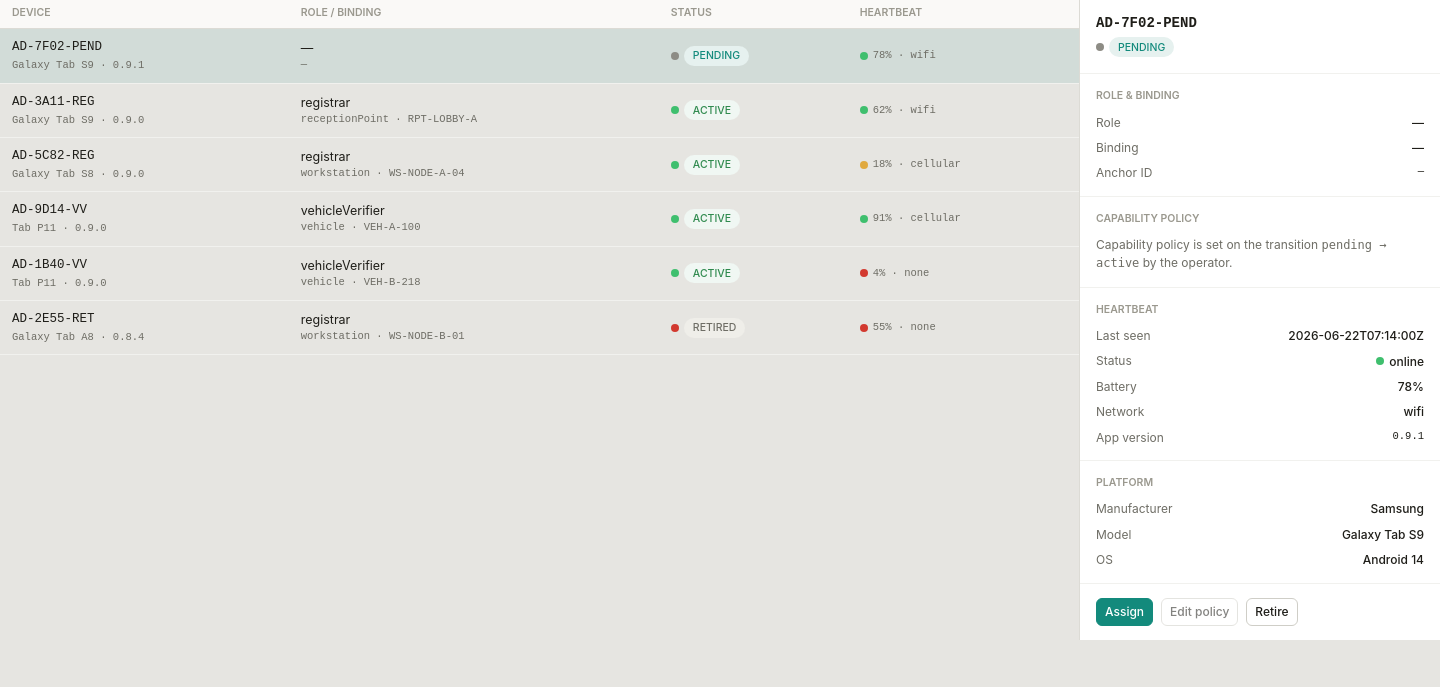
Test: AndroidDevicesScreen integration: assign + retire flows mutate snapshot › Retire on active device transitions to retired + locks affordances
Expected: the button "AD-7F02-PEND Galaxy Tab S9 · 0.9.1" is shown, [12,38,277,74]
Click the button "AD-3A11-REG Galaxy Tab S9 · 0.9.0" at (53, 102), box [12,93,277,128]
(page scrolled)
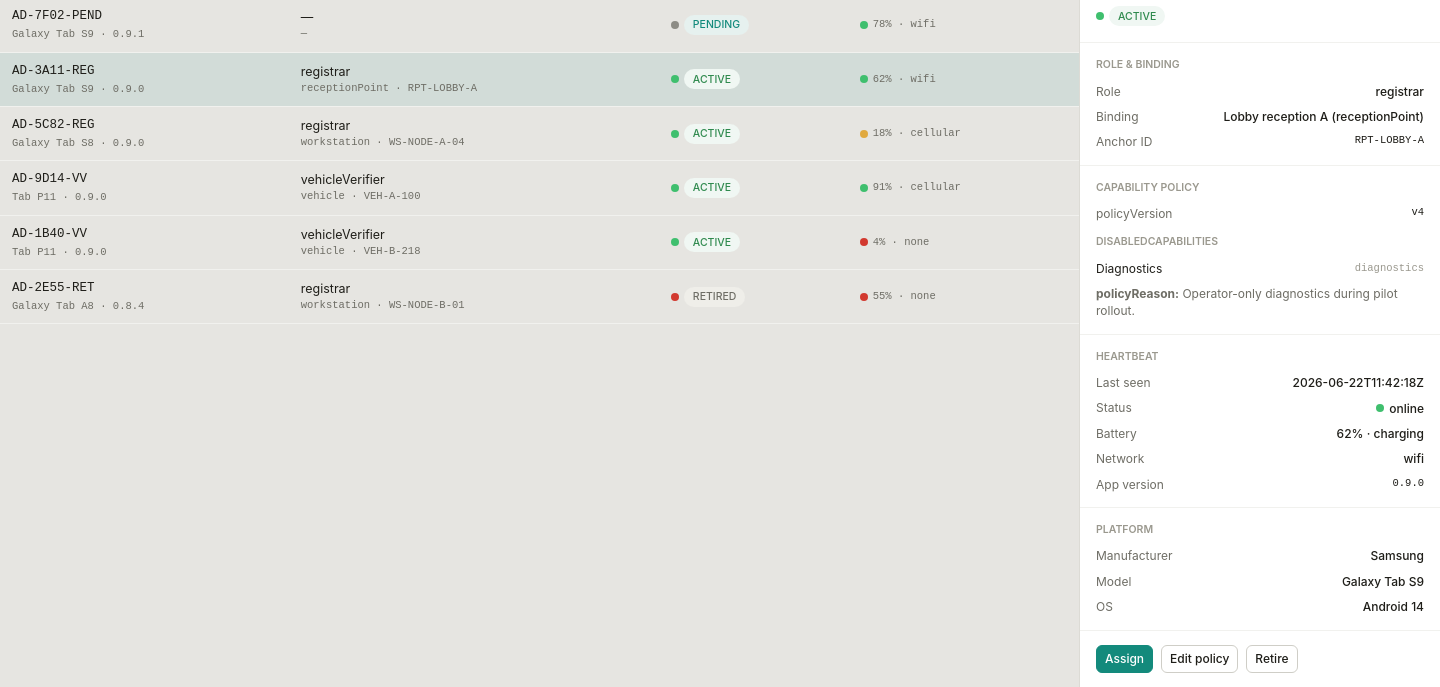
Click the button "Retire" at (1272, 659), box [1246,645,1298,673]
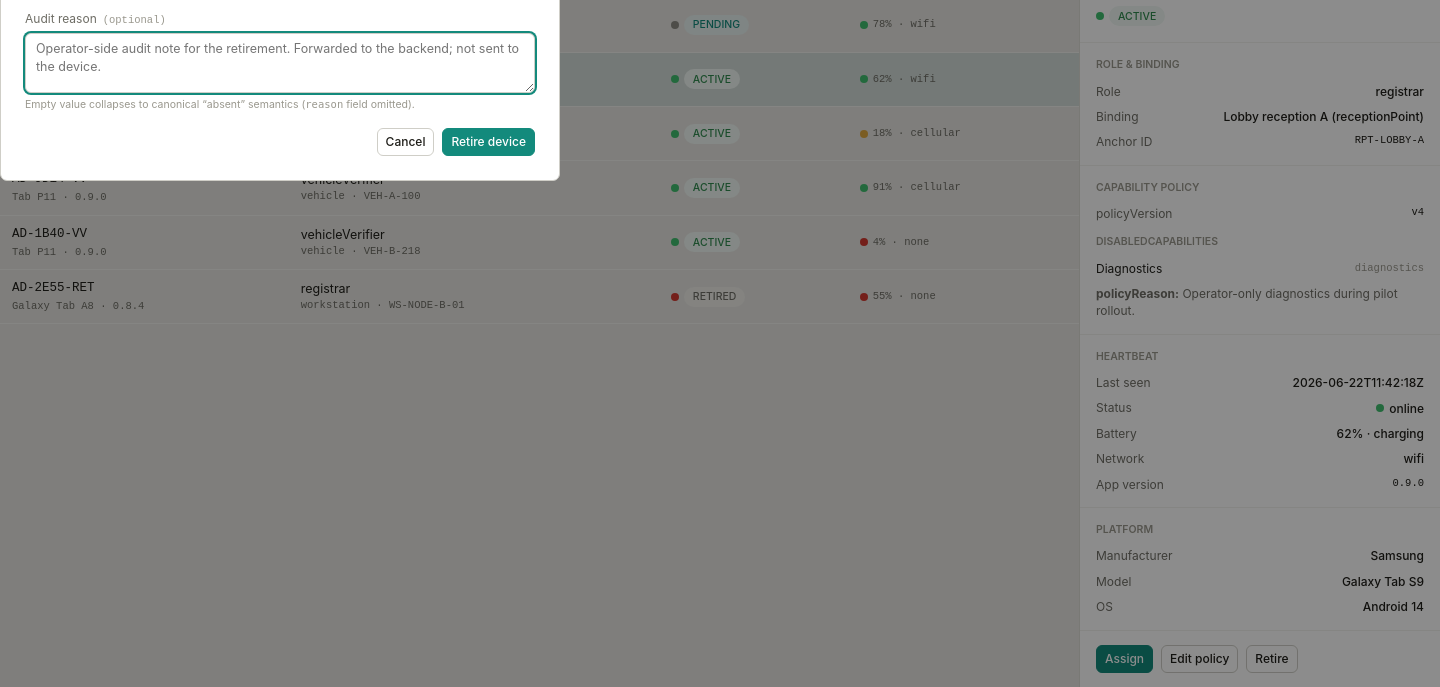
Replace the text in the text box labelled "Audit reason(optional)" with "Decommissioned" at (280, 63), box [25,33,535,93]
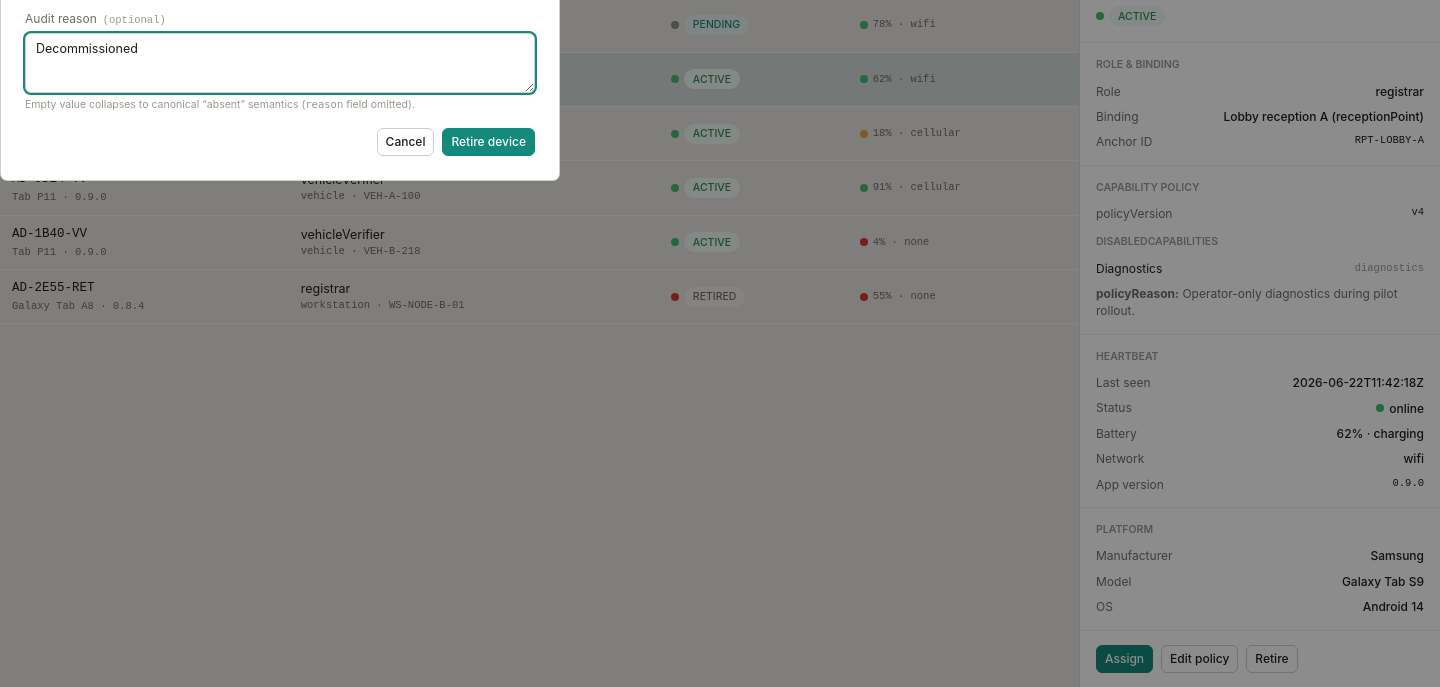
Click the button "Retire device" at (489, 142), box [442,128,535,156]
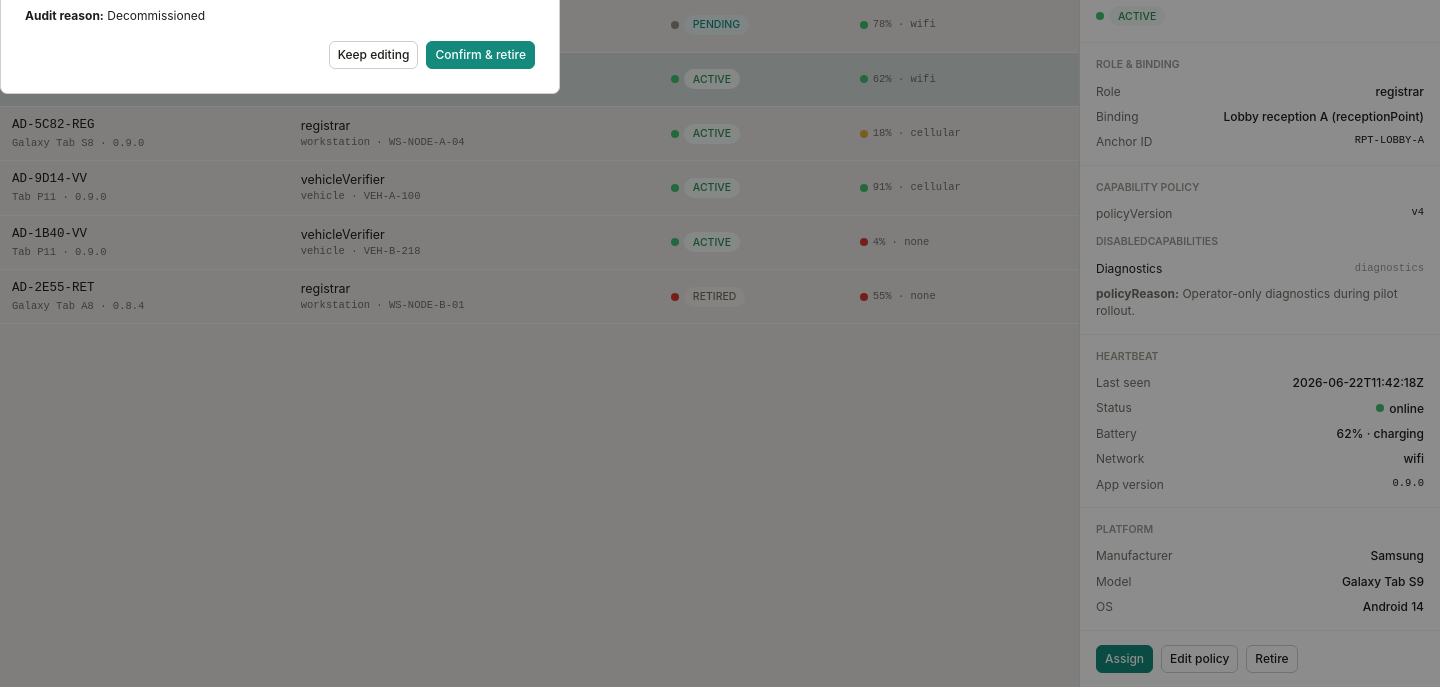
Click the button "Confirm & retire" at (481, 55), box [426,41,535,69]
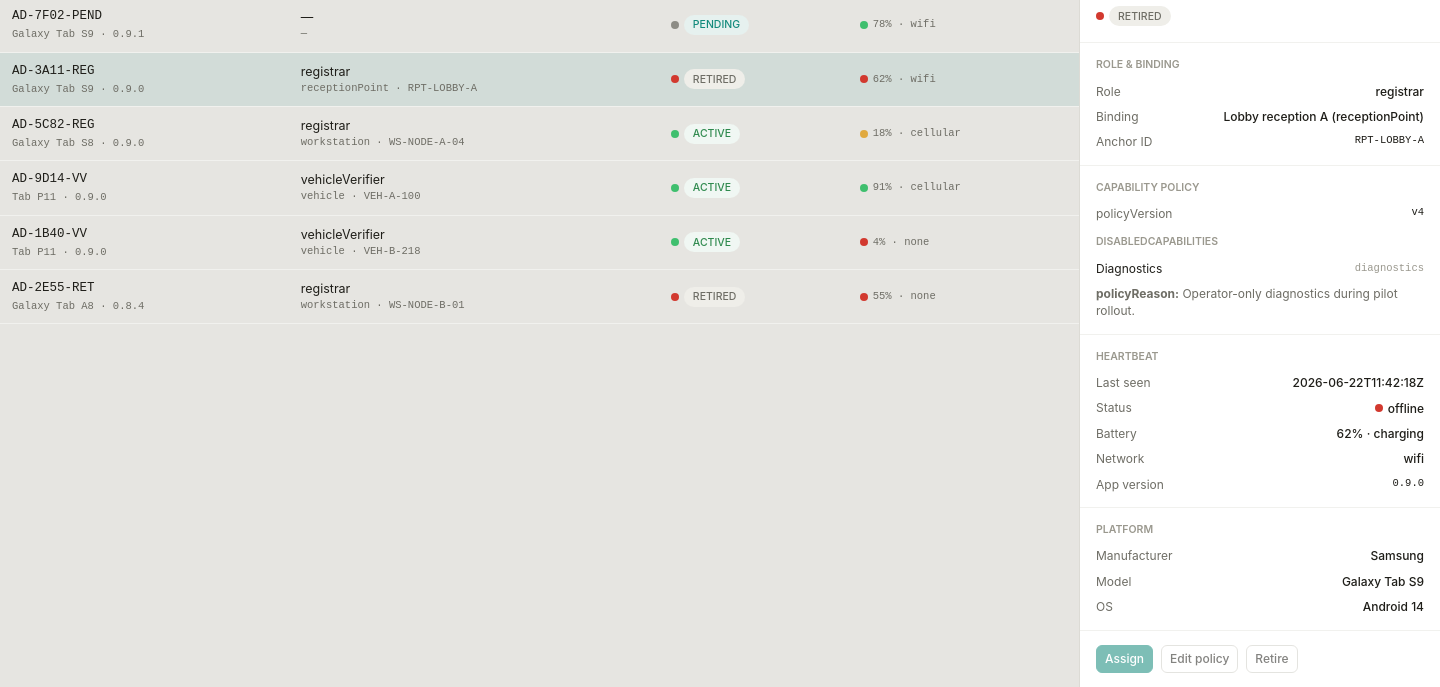
Now the 1st text "retired" is shown, box [1109,6,1171,26]
Now the button "Edit policy" is disabled, box [1161,645,1238,673]
Now the button "Retire" is disabled, box [1246,645,1298,673]
